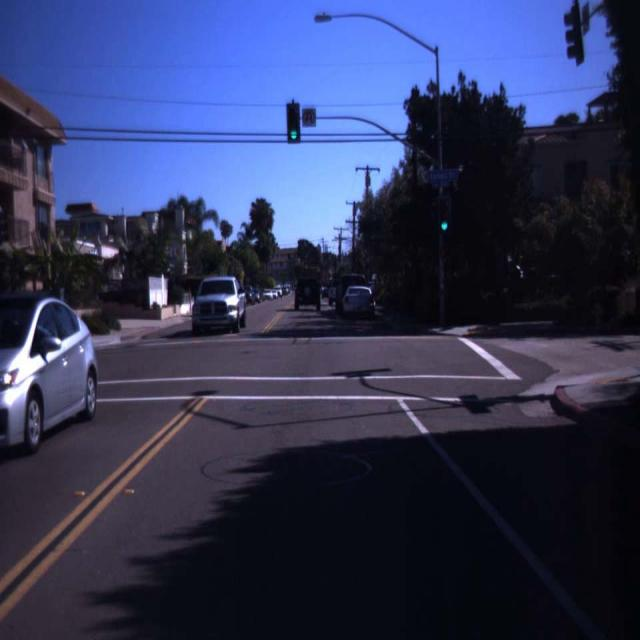yesil: (286, 102, 299, 142), (440, 197, 451, 231)
